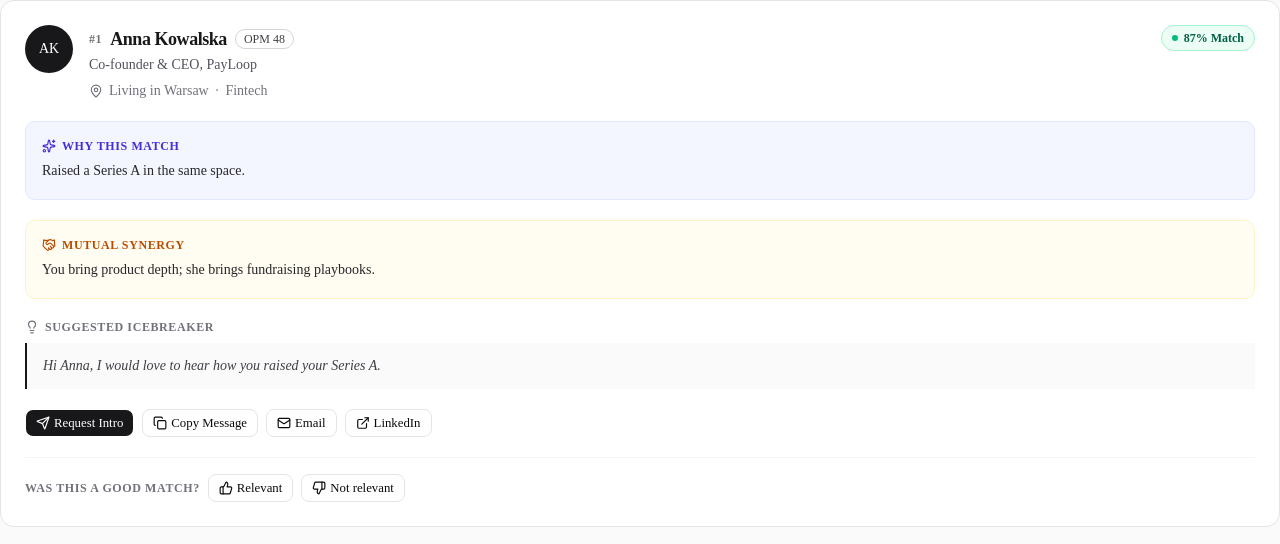
MatchCard › feedback › sends a thumbs up for the candidate and query, then confirms
Step 1. Click the button "Relevant" → (251, 488), box top-left (208, 474), bottom-right (293, 502)
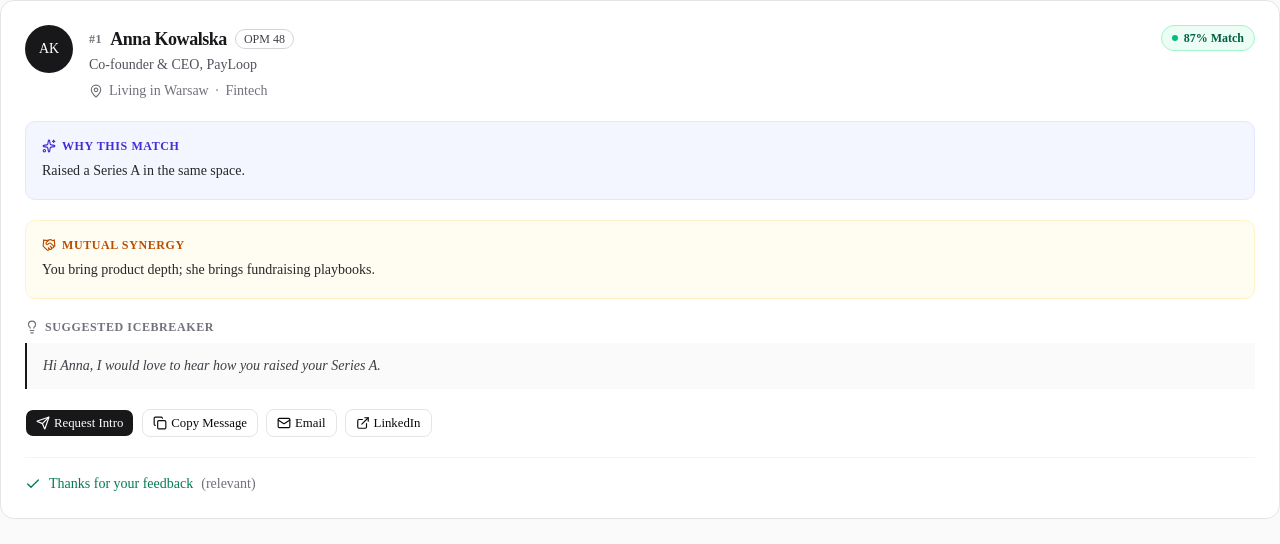
Result: the message shows "Thanks for your feedback" at top-left (49, 476), bottom-right (193, 491)
